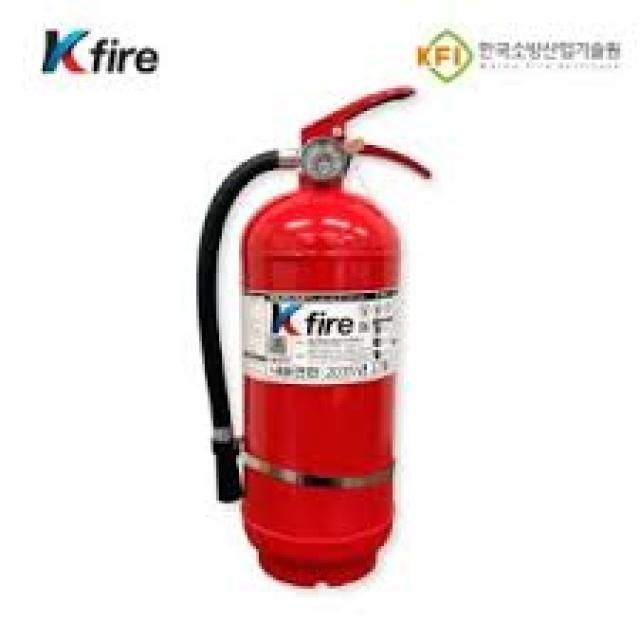pressure gauge: (302, 137, 349, 182)
